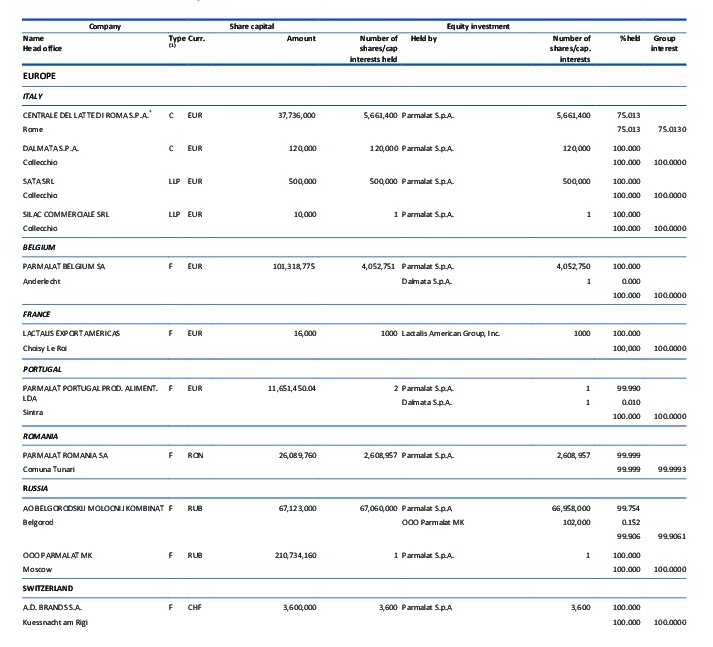table: (0, 0, 713, 647)
